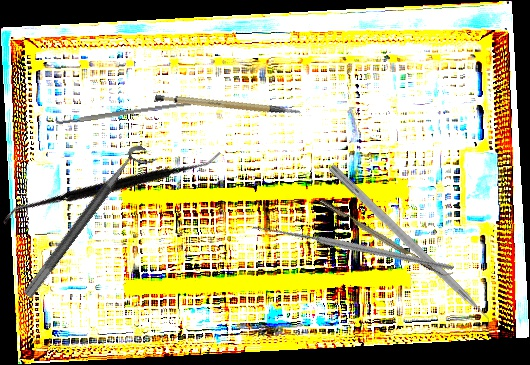Chopper: (318, 162, 504, 343), (319, 191, 454, 284)
Fixation Ring: (22, 141, 158, 309)
Hook Surgical: (244, 147, 456, 355)
Scalpel Handle: (153, 75, 303, 138), (54, 100, 192, 126)
Spatula Surgical: (1, 75, 224, 302)
